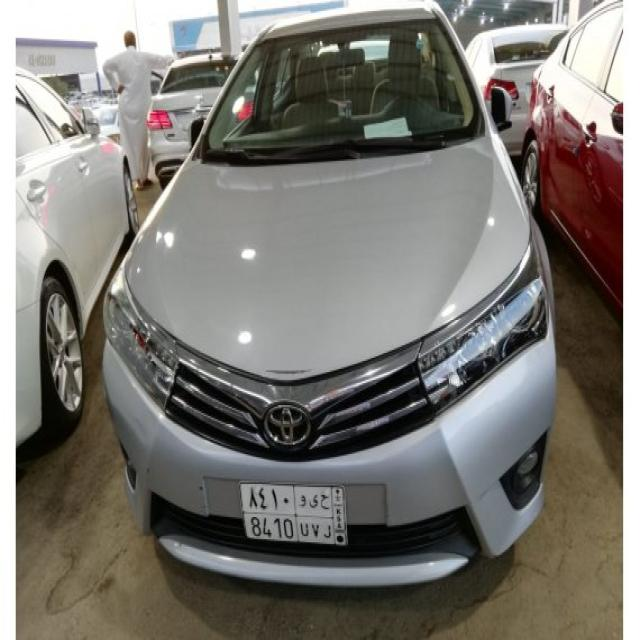license_plate: (238, 479, 349, 547)
